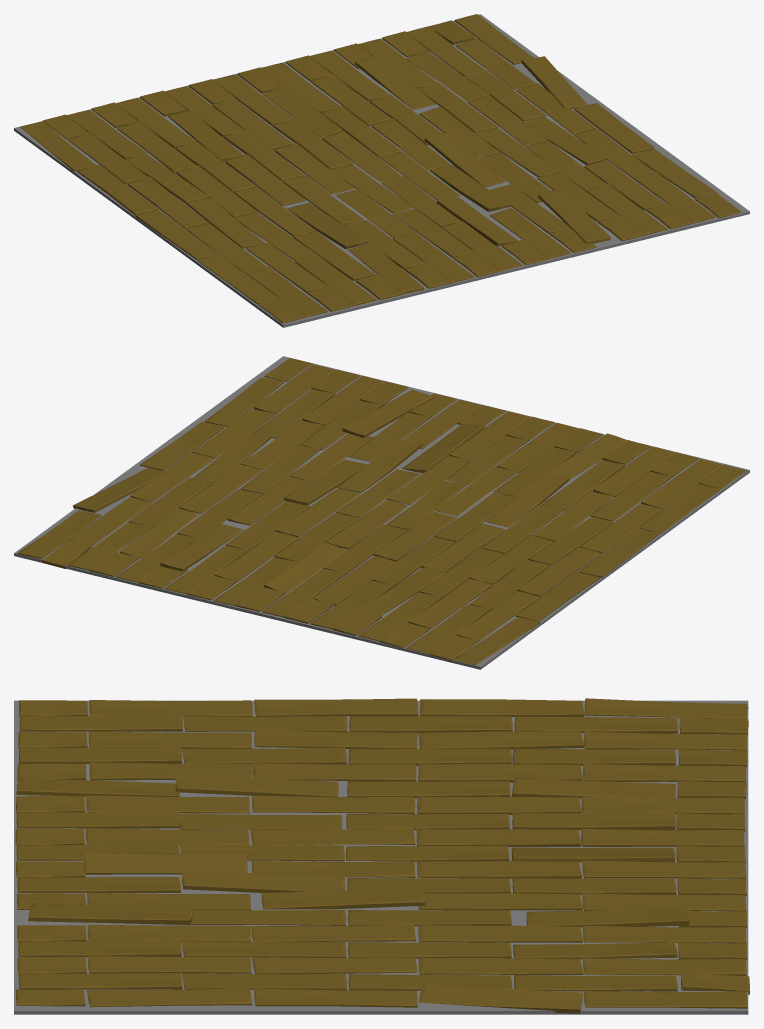
The model's file is floor_wood_big.fbx.
3 renders of one model, top to bottom at view 1: azimuth 30°, elevation 25°; view 2: azimuth 150°, elevation 25°; view 3: azimuth 270°, elevation 25°, orthographic. The views are drawn at different scales.
Parts seen in each view (by area): view 1: pref_floor_big; view 2: pref_floor_big; view 3: pref_floor_big.
Boxes of the visible parts, <box> form: pref_floor_big: <box>14,14,749,327</box>; pref_floor_big: <box>14,356,749,669</box>; pref_floor_big: <box>14,698,749,1014</box>.
Bounding box in the file's own units: 905 × 18.42 × 902.
